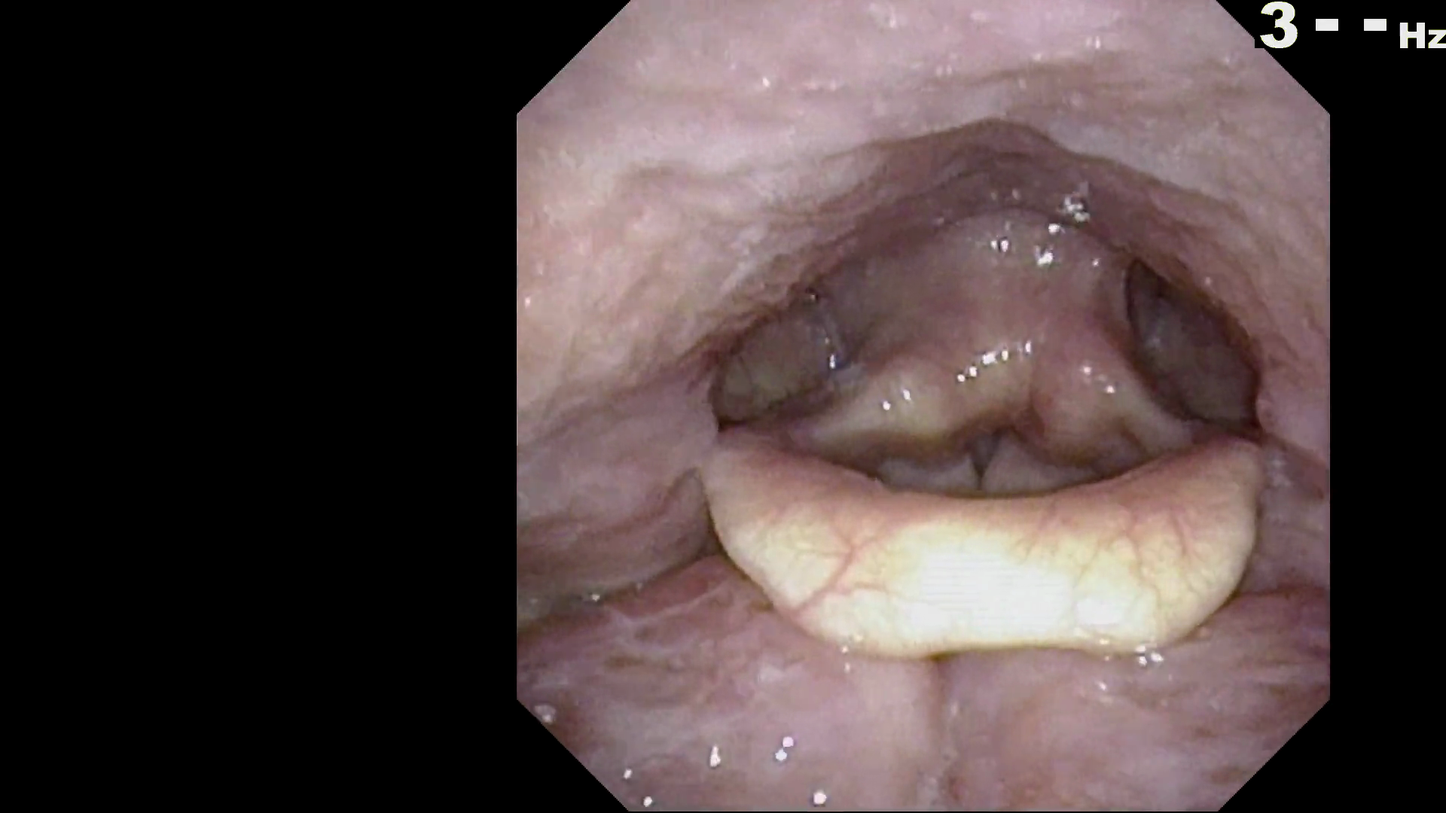epiglottis: (694, 408, 1292, 663)
trachea: (916, 361, 1083, 550)
